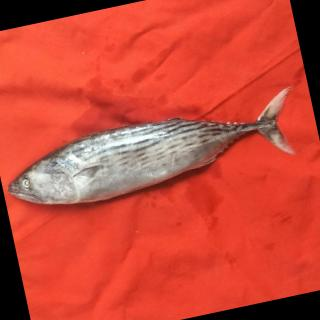Ikan: (1, 79, 315, 234)
